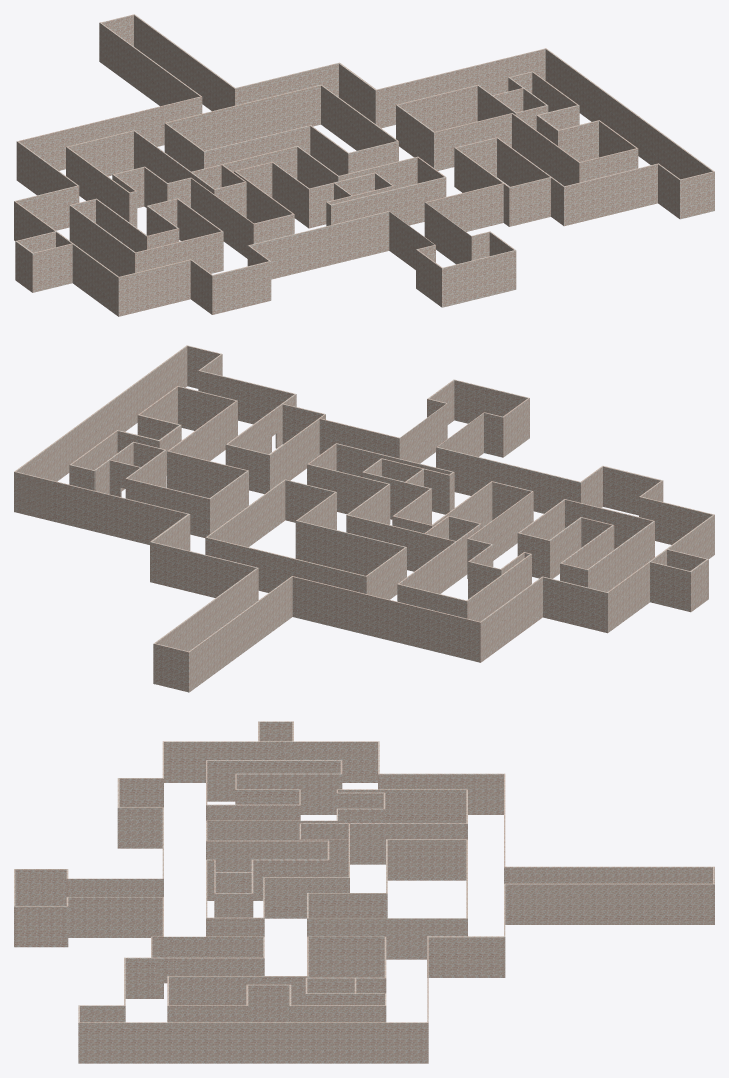
File: Walls.obj
3 renders of one model, top to bottom at view 1: azimuth 30°, elevation 25°; view 2: azimuth 150°, elevation 25°; view 3: azimuth 270°, elevation 25°, orthographic. The views are drawn at different scales.
Parts seen in each view (by area): view 1: Wall95, Wall101, Wall64, Wall86, Wall98, Wall91, Wall104, Wall103, Wall6, Wall81, Wall11, Wall94 (+62 smaller); view 2: Wall98, Wall86, Wall95, Wall104, Wall64, Wall99, Wall58, Wall101, Wall103, Wall105, Wall38, Wall69 (+57 smaller); view 3: Wall95, Wall103, Wall69, Wall34, Wall104, Wall71, Wall62, Wall100, Wall67, Wall12, Wall20, Wall105 (+33 smaller).
Part boxes in pixels (left/top/right/bottom): Wall95: left=545, top=49, right=713, bottom=179; Wall101: left=166, top=84, right=321, bottom=150; Wall64: left=249, top=211, right=389, bottom=279; Wall86: left=377, top=48, right=546, bottom=128; Wall98: left=18, top=96, right=202, bottom=170; Wall91: left=563, top=163, right=658, bottom=226; Wall104: left=99, top=22, right=201, bottom=106; Wall103: left=133, top=14, right=234, bottom=111; Wall6: left=441, top=250, right=516, bottom=307; Wall81: left=330, top=176, right=446, bottom=225; Wall11: left=118, top=259, right=190, bottom=316; Wall94: left=211, top=261, right=271, bottom=314; Wall98: left=291, top=576, right=479, bottom=662; Wall86: left=14, top=471, right=187, bottom=544; Wall95: left=15, top=346, right=187, bottom=481; Wall104: left=188, top=576, right=292, bottom=692; Wall64: left=436, top=447, right=579, bottom=513; Wall99: left=150, top=541, right=258, bottom=600; Wall58: left=295, top=520, right=406, bottom=577; Wall101: left=205, top=537, right=365, bottom=593; Wall103: left=153, top=568, right=257, bottom=684; Wall105: left=479, top=576, right=542, bottom=662; Wall38: left=543, top=576, right=606, bottom=632; Wall69: left=206, top=479, right=285, bottom=547; Wall95: left=80, top=1022, right=427, bottom=1063; Wall103: left=505, top=883, right=714, bottom=924; Wall69: left=307, top=918, right=466, bottom=959; Wall34: left=68, top=897, right=163, bottom=937; Wall104: left=505, top=866, right=714, bottom=883; Wall71: left=299, top=823, right=467, bottom=864; Wall62: left=387, top=839, right=467, bottom=880; Wall100: left=427, top=936, right=503, bottom=977; Wall67: left=308, top=936, right=384, bottom=977; Wall12: left=164, top=741, right=270, bottom=782; Wall20: left=338, top=789, right=467, bottom=823; Wall105: left=378, top=773, right=504, bottom=814.
Bounding box in the file's own units: 477 × 30 × 468.
1 material, 1 textured.
